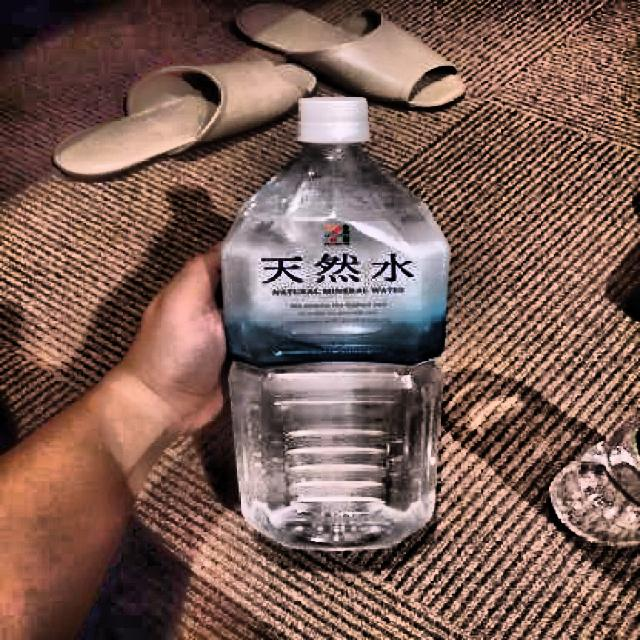Bottles: (206, 97, 466, 580)
